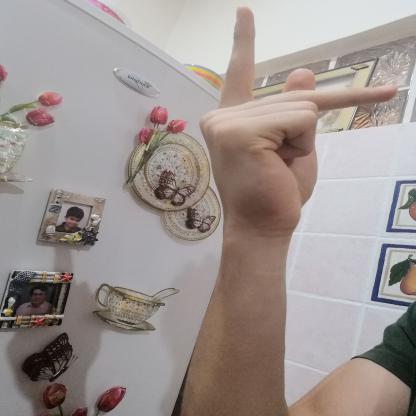DHAA: (186, 3, 409, 242)
